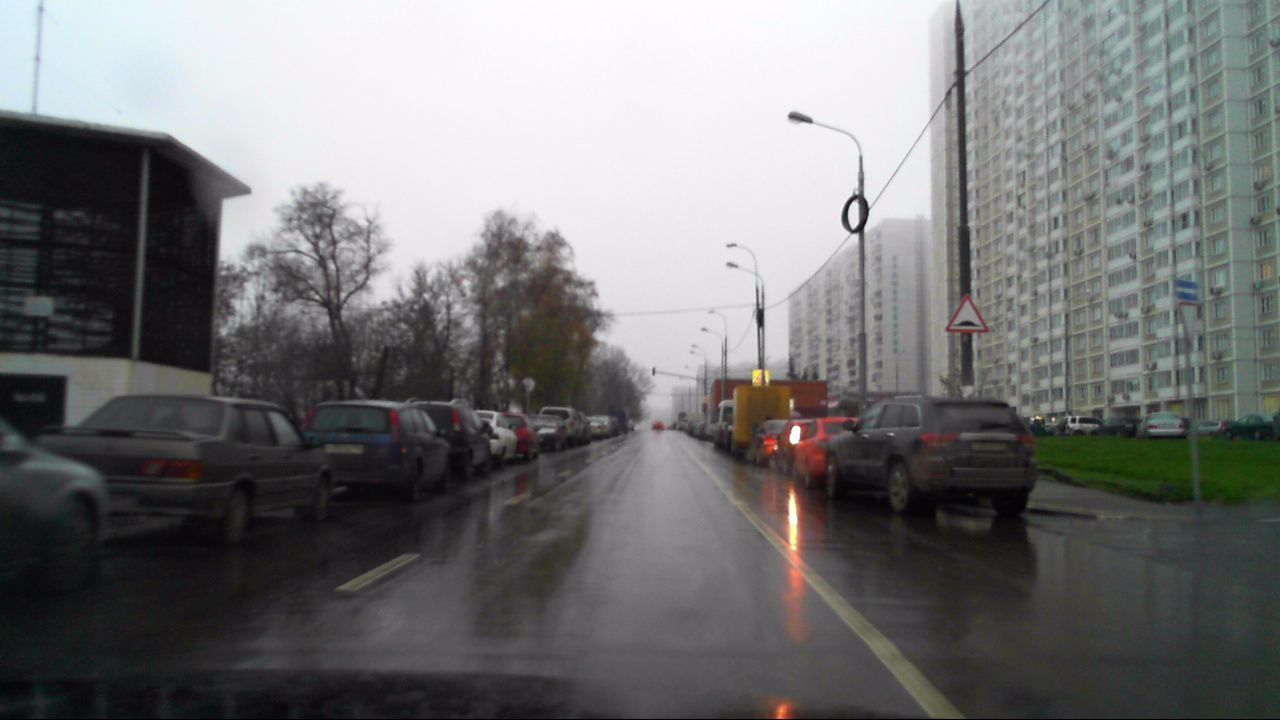One-Way Traffic: (1175, 280, 1201, 301)
